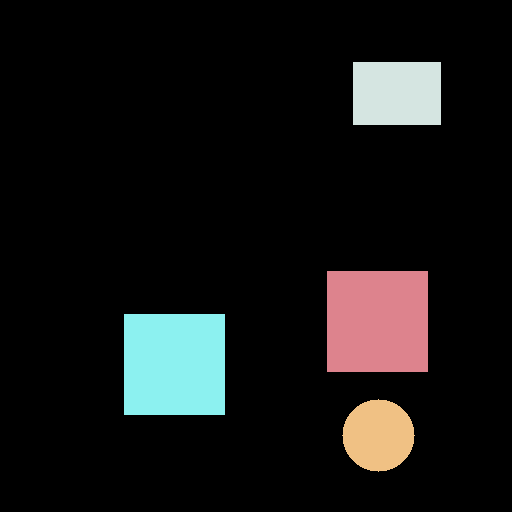circle: (342, 399, 414, 471)
rectangle: (353, 62, 440, 124)
square: (124, 314, 224, 414), (327, 271, 427, 371)
